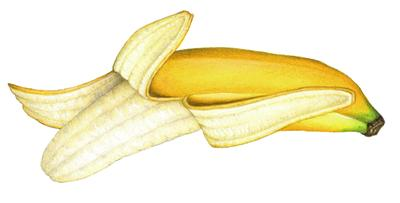banana: (0, 0, 400, 203)
